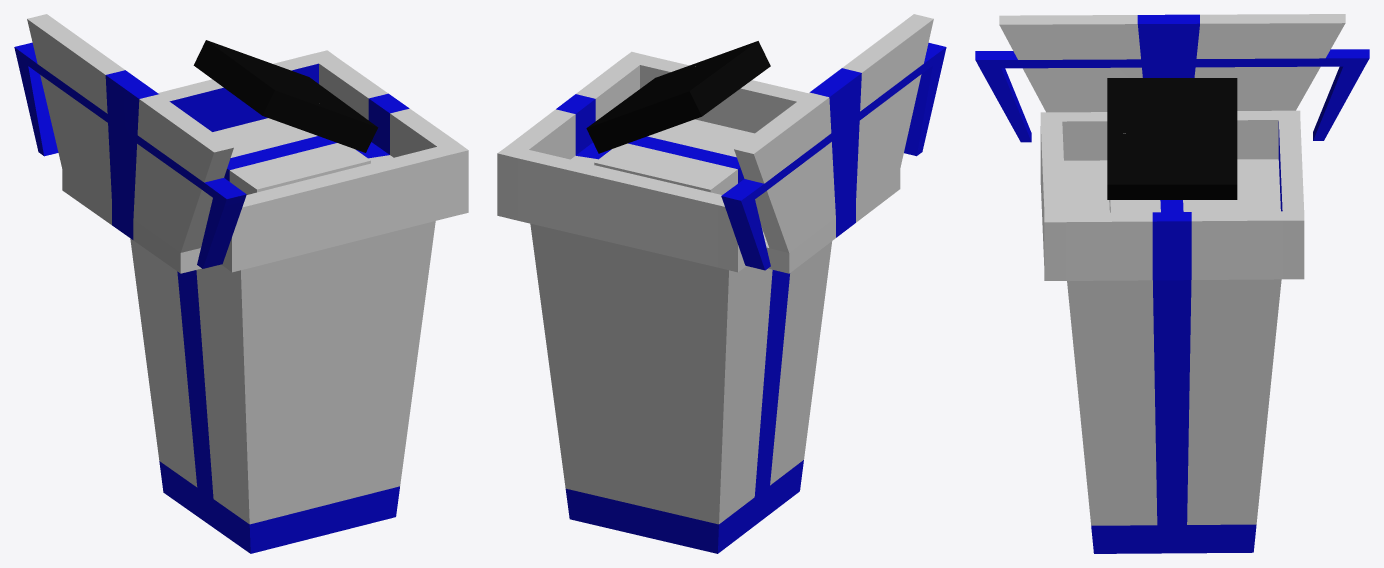
The model's file is GameStartTerminal.fbx.
3 renders of one model, left to right at view 1: azimuth 30°, elevation 25°; view 2: azimuth 150°, elevation 25°; view 3: azimuth 270°, elevation 25°, orthographic. The views are drawn at different scales.
Visible parts, largest first — view 1: TerminalBase, Button; view 2: TerminalBase, Button; view 3: TerminalBase, Button.
Boxes of the visible parts, box(x1,y1,x2,y2) form: TerminalBase: box(14, 14, 468, 553); Button: box(193, 40, 378, 152); TerminalBase: box(497, 14, 946, 553); Button: box(586, 41, 770, 153); TerminalBase: box(975, 14, 1369, 553); Button: box(1107, 78, 1237, 199).
Bounding box in the file's own units: 1.42 × 2.2 × 1.82.
